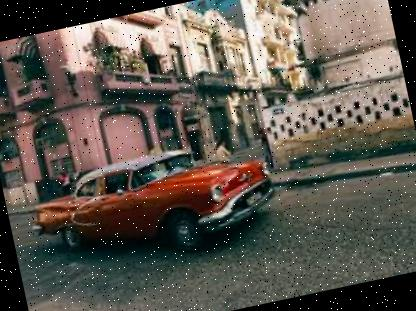car: (18, 122, 288, 280)
